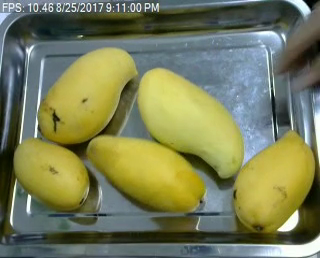Mango: (133, 68, 248, 180), (35, 45, 140, 142), (85, 132, 207, 214), (234, 128, 316, 235), (14, 138, 88, 210)
